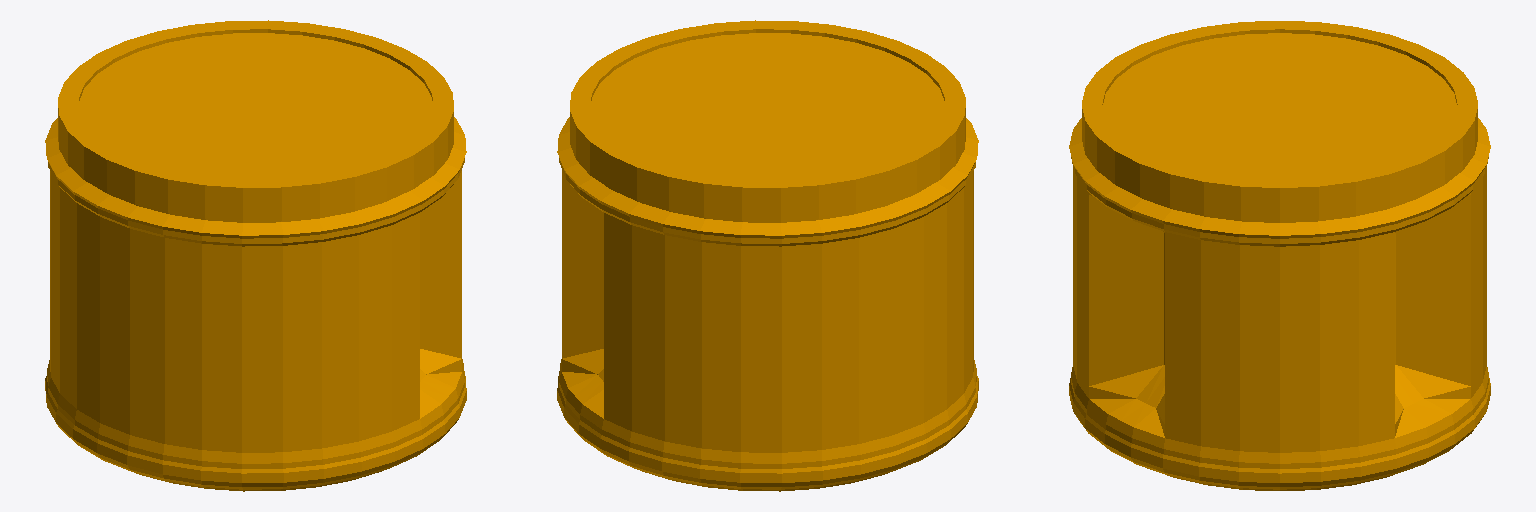
robot.urdf — sugar-jar.off:
<?xml version="1.0"?>
<robot name="sugar-jar.off">
	<link name="sugar-jar.off">
		<inertial>
			<!--origin xyz="0 0 0" rpy="0 0 0" /-->
			<mass value="0.5" />
			<!--inertia ixx="0.000360" ixy="0" ixz="0" iyy="0.0000615" iyz="0" izz="0.00036" /-->
		</inertial>
    		<visual>
	      		<!--origin rpy="0 0 0" xyz="0 0 0"/-->
      			<geometry>
        			<mesh filename="sugar-jar.off.obj"/>
      			</geometry>
         	</visual>
    		<collision>
      			<!--origin rpy="0 0 0" xyz="0 0 0"/-->
      			<geometry>
        			<mesh filename="sugar-jar.off.obj"/>
      			</geometry>
    		</collision>
	</link>
</robot>

--- Render facts (derived) ---
3 views of the same robot in one strip: view 1: azimuth 30°, elevation 25°; view 2: azimuth 150°, elevation 25°; view 3: azimuth 270°, elevation 25° (orthographic).
Model sugar-jar.off with 1 links and 0 joints (none), rooted at sugar-jar.off, posed all joints at 0.
Links seen in each view (by area): view 1: sugar-jar.off; view 2: sugar-jar.off; view 3: sugar-jar.off.
Link boxes in pixels (bbox=[...]): sugar-jar.off: bbox=[45, 20, 466, 491]; sugar-jar.off: bbox=[557, 20, 978, 491]; sugar-jar.off: bbox=[1069, 21, 1490, 490].
Size in the robot's own frame: 15.97 by 15.97 by 12.82 metres.
1 mesh visuals loaded from 1 distinct referenced files (1 OBJ).